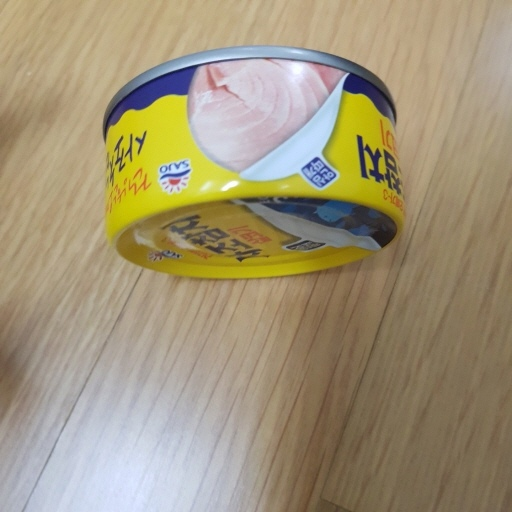Metal_1: (99, 45, 410, 281)
